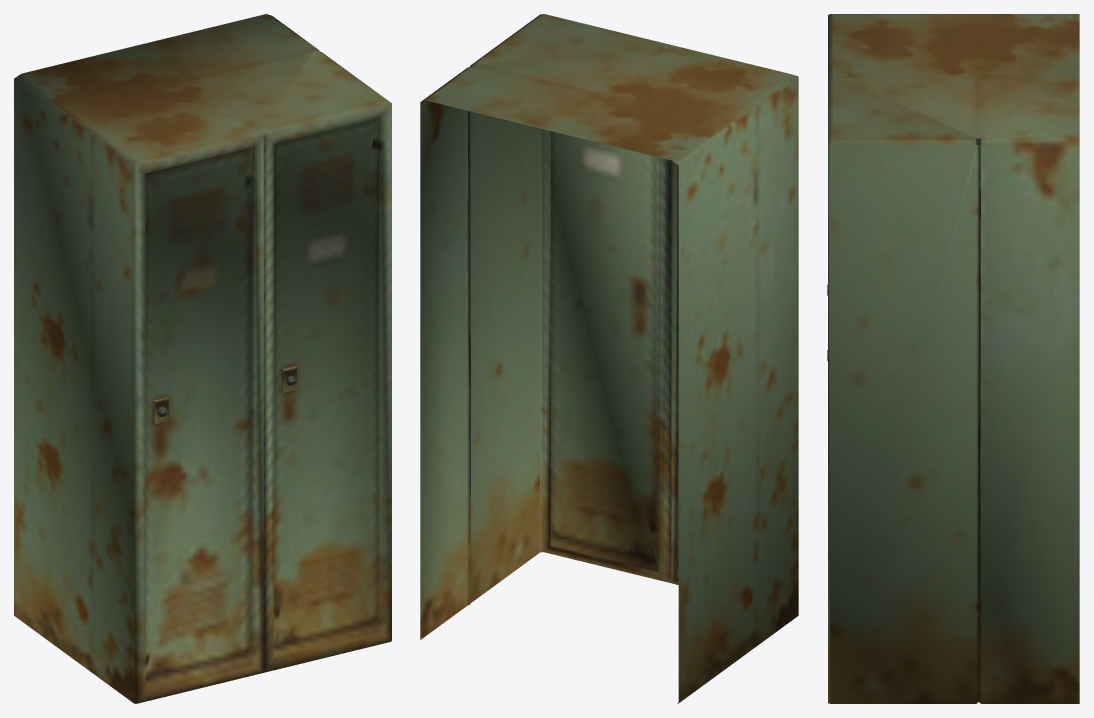
Rendered from Chest.fbx.
The picture shows the model from 3 angles, left to right: view 1: azimuth 30°, elevation 25°; view 2: azimuth 150°, elevation 25°; view 3: azimuth 270°, elevation 25°; orthographic projection. The views are drawn at different scales.
Parts seen in each view (by area): view 1: tripo_node_137b9a70.001; view 2: tripo_node_137b9a70.001; view 3: tripo_node_137b9a70.001.
Boxes of the visible parts, <box> form: tripo_node_137b9a70.001: <box>14,14,391,703</box>; tripo_node_137b9a70.001: <box>420,14,798,703</box>; tripo_node_137b9a70.001: <box>827,14,1079,703</box>.
Bounding box in the file's own units: 108 × 217 × 88.13.
